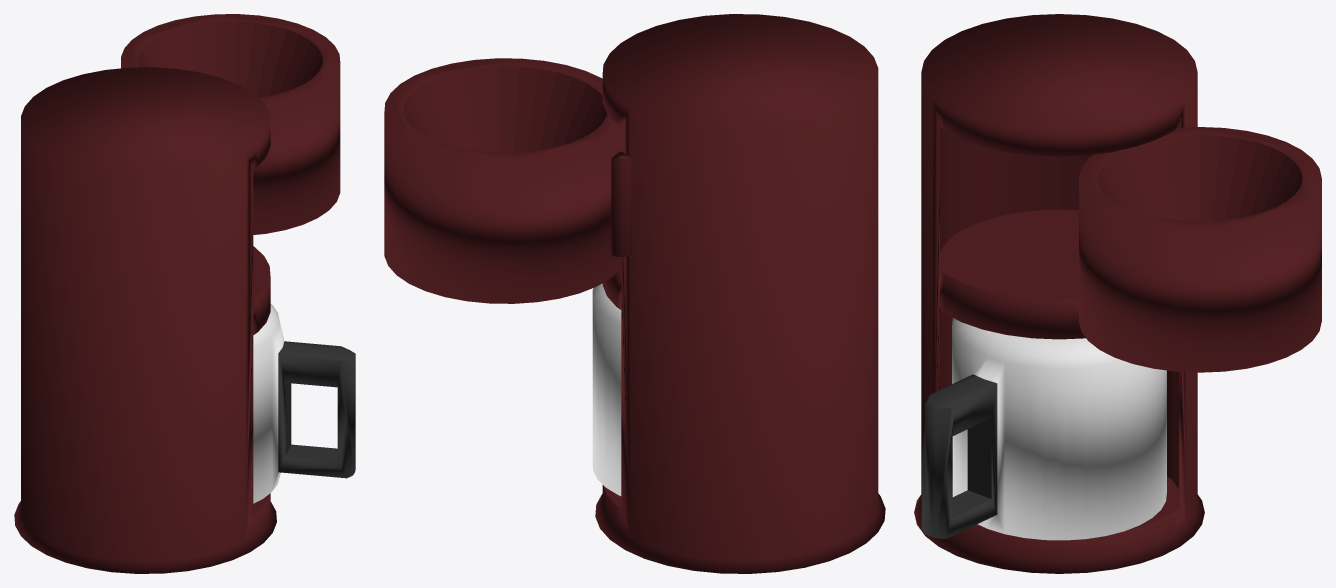
The model's file is coffee_machine.fbx.
The picture shows the model from 3 angles, left to right: view 1: azimuth 30°, elevation 25°; view 2: azimuth 150°, elevation 25°; view 3: azimuth 270°, elevation 25°; orthographic projection. The views are drawn at different scales.
Parts seen in each view (by area): view 1: Cylinder, Cylinder.005, Cylinder.002; view 2: Cylinder, Cylinder.005, Cylinder.002, Cylinder.006; view 3: Cylinder, Cylinder.005, Cylinder.002.
Part boxes in pixels (x1,y1,x2,y2): Cylinder: (14,67,276,573); Cylinder.005: (121,14,340,234); Cylinder.002: (253,304,355,503); Cylinder: (595,14,885,573); Cylinder.005: (384,58,621,303); Cylinder.002: (592,283,621,495); Cylinder.006: (611,151,631,256); Cylinder: (914,14,1204,573); Cylinder.005: (1079,127,1321,372); Cylinder.002: (921,318,1166,540).
Bounding box in the file's own units: 3.3 × 3.51 × 2.95.
